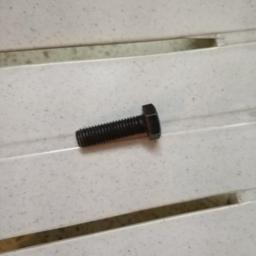screwtype2black: (70, 102, 164, 150)
